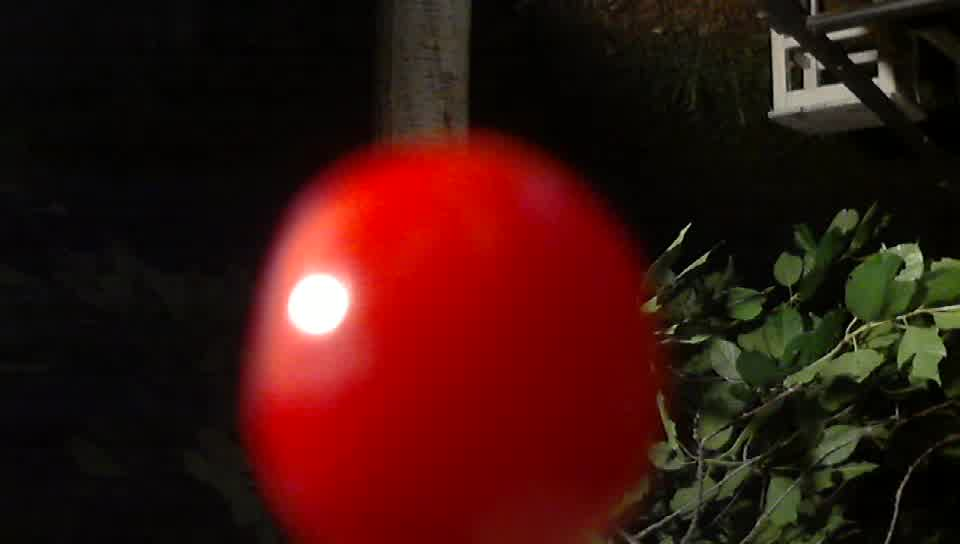Cherry: (206, 112, 703, 544)
